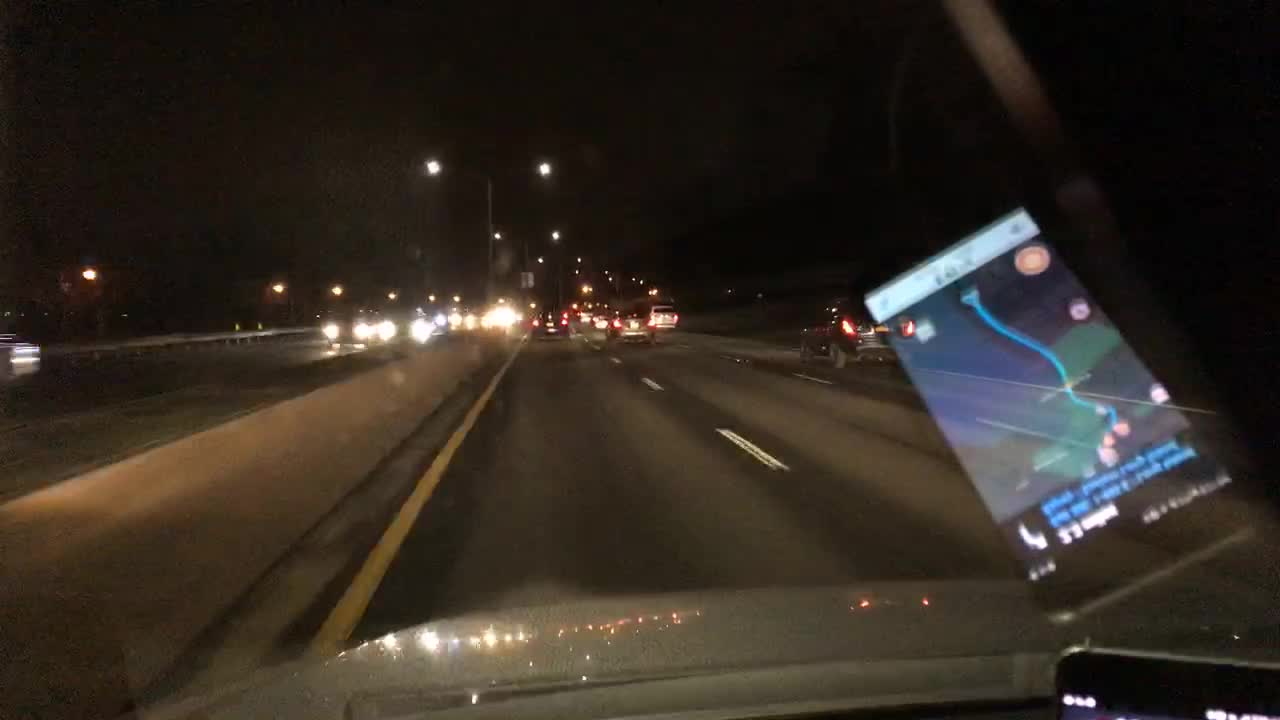car: (797, 291, 933, 371), (370, 311, 430, 345), (600, 308, 653, 343), (321, 311, 368, 346), (531, 308, 571, 338), (449, 306, 479, 326), (652, 304, 678, 326), (491, 308, 516, 326), (430, 305, 446, 328), (576, 306, 595, 321)
traffic sign: (520, 270, 534, 289)
